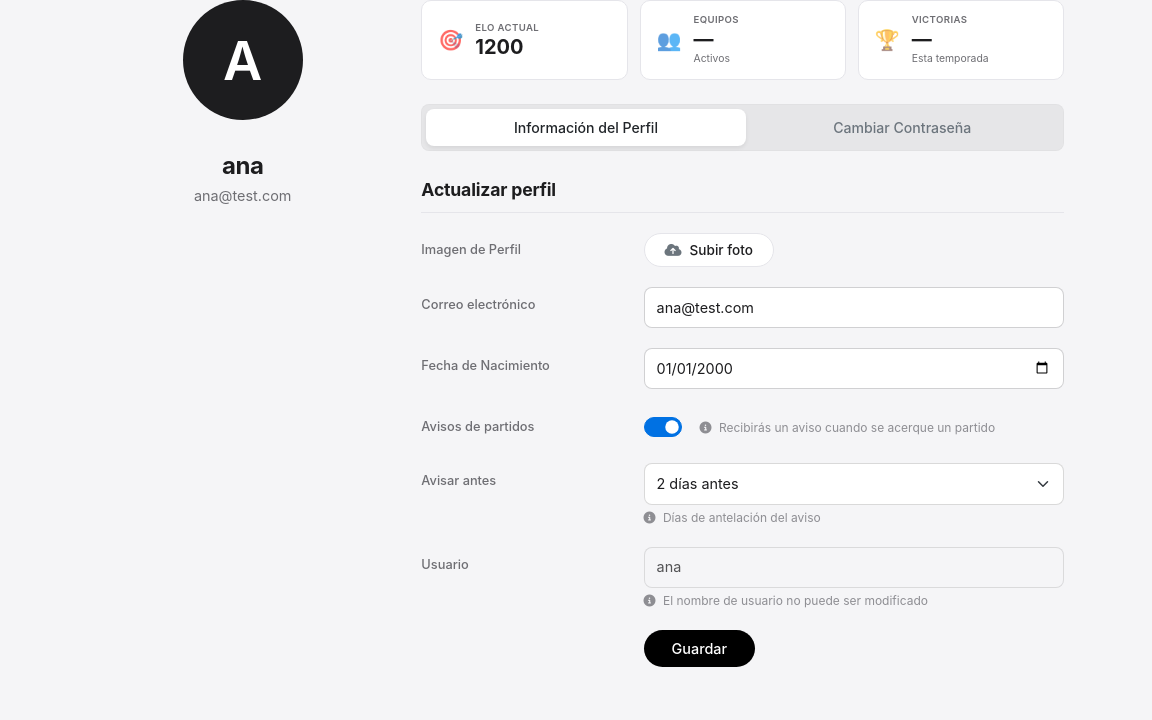
it: Profile › actualiza el perfil correctamente
Replace the text in the field with id "email" with "nuevo@test.com": (854, 307) [644,287,1064,328]
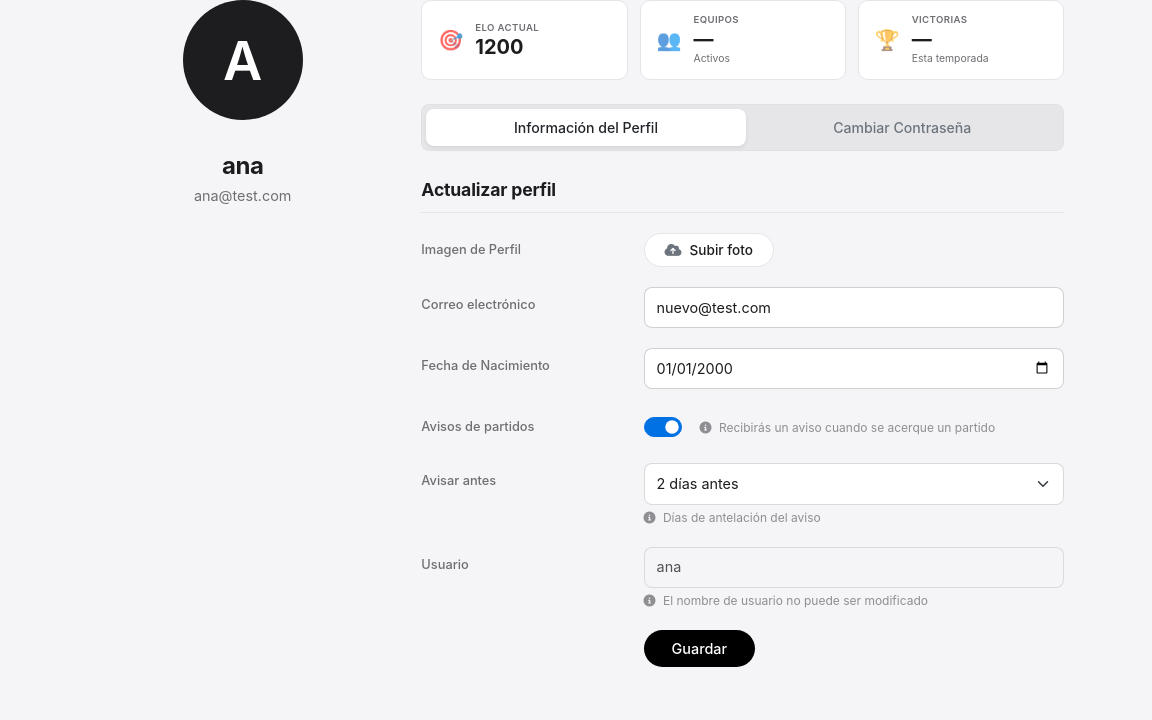
Submit the form, box [421,233,1064,667]
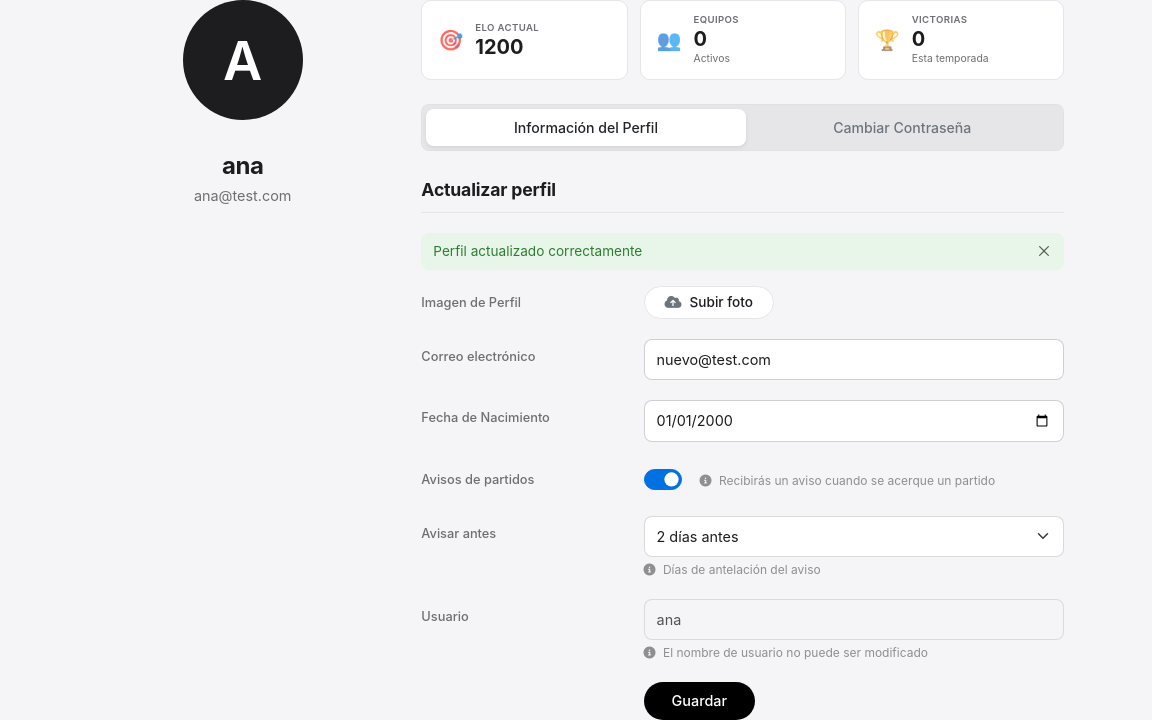
Expected: the text "Perfil actualizado correctamente" is shown, [433,241,642,262]
